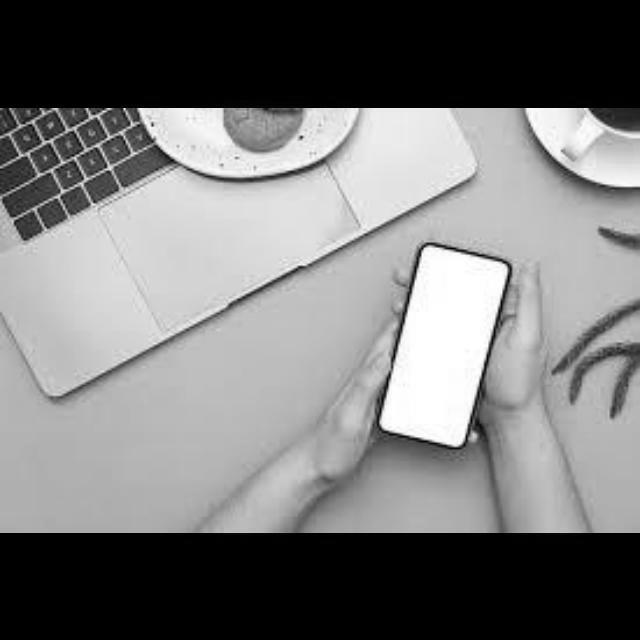fake: (386, 228, 522, 474)
